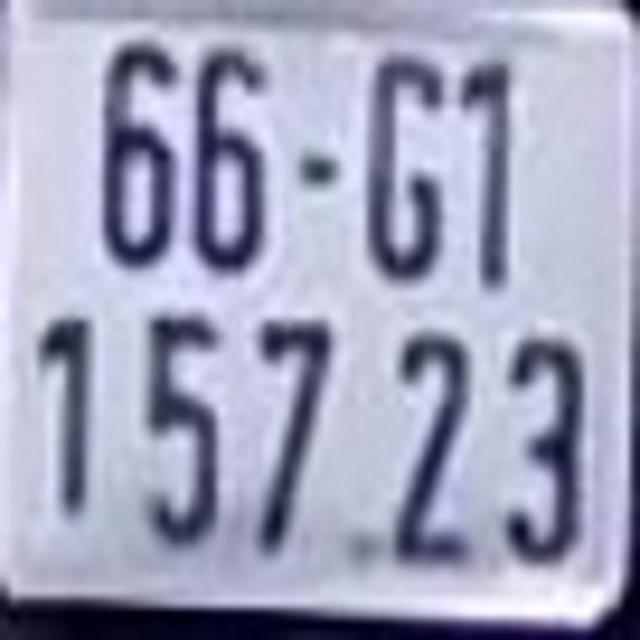1: (29, 310, 115, 528), (455, 55, 526, 284)
2: (388, 317, 470, 562)
3: (504, 332, 587, 567)
5: (140, 312, 223, 545)
6: (95, 32, 179, 264), (191, 31, 269, 276)
7: (249, 313, 330, 554)
G: (361, 55, 450, 276)
